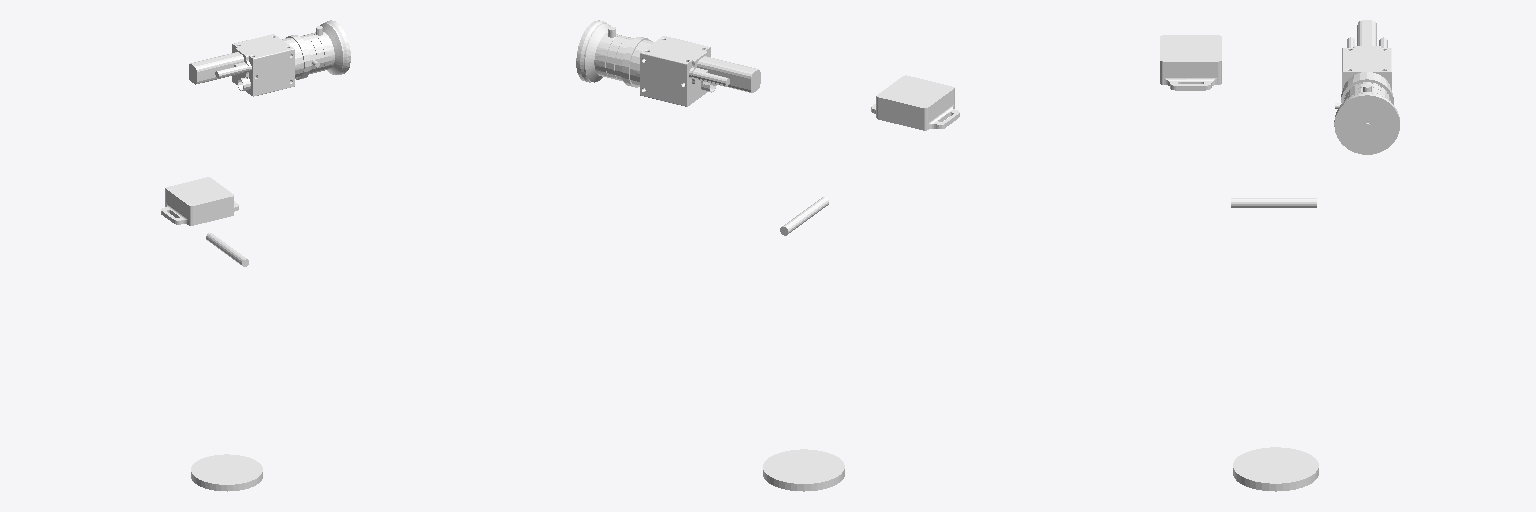
URDF robot description (hero_description):
<?xml version="1.0" encoding="utf-8"?>
<!-- This URDF was automatically created by SolidWorks to URDF Exporter! Originally created by [author] ([email redacted]) 
     Commit Version: 1.6.0-4-g7f85cfe  Build Version: 1.6.7995.38578
     For more information, please see http://wiki.ros.org/sw_urdf_exporter -->
<robot
  name="hero_description">
  <link
    name="base_link">
    <inertial>
      <origin
        xyz="2.7756E-16 -1.0408E-17 -0.0025"
        rpy="0 0 0" />
      <mass
        value="0.0098175" />
      <inertia
        ixx="1.5544E-06"
        ixy="1.7922E-24"
        ixz="8.8233E-24"
        iyy="1.5544E-06"
        iyz="3.4466E-26"
        izz="3.068E-06" />
    </inertial>
    <visual>
      <origin
        xyz="0 0 0"
        rpy="0 0 0" />
      <geometry>
        <mesh
          filename="package://hero_description/meshes/base_link.STL" />
      </geometry>
      <material
        name="">
        <color
          rgba="1 1 1 1" />
      </material>
    </visual>
    <collision>
      <origin
        xyz="0 0 0"
        rpy="0 0 0" />
      <geometry>
        <mesh
          filename="package://hero_description/meshes/base_link.STL" />
      </geometry>
    </collision>
  </link>
  <link
    name="yaw_link">
    <inertial>
      <origin
        xyz="-0.0051488 -0.031475 0.045253"
        rpy="0 0 0" />
      <mass
        value="0.93174" />
      <inertia
        ixx="0.001031"
        ixy="-4.9461E-07"
        ixz="8.554E-05"
        iyy="0.0011551"
        iyz="-2.2638E-07"
        izz="0.00081818" />
    </inertial>
    <visual>
      <origin
        xyz="0 0 0"
        rpy="0 0 0" />
      <geometry>
        <mesh
          filename="package://hero_description/meshes/yaw_link.STL" />
      </geometry>
      <material
        name="">
        <color
          rgba="0.75294 0.75294 0.75294 1" />
      </material>
    </visual>
    <collision>
      <origin
        xyz="0 0 0"
        rpy="0 0 0" />
      <geometry>
        <mesh
          filename="package://hero_description/meshes/yaw_link.STL" />
      </geometry>
    </collision>
  </link>
  <joint
    name="yaw_joint"
    type="continuous">
    <origin
      xyz="0 0 0"
      rpy="0 0 0" />
    <parent
      link="base_link" />
    <child
      link="yaw_link" />
    <axis
      xyz="0 0 1" />
  </joint>
  <link
    name="pitch_link">
    <inertial>
      <origin
        xyz="0.0034066 -0.001299 0.03678"
        rpy="0 0 0" />
      <mass
        value="1.2416" />
      <inertia
        ixx="0.0011211"
        ixy="-1.2138E-06"
        ixz="-0.00010276"
        iyy="0.0011238"
        iyz="-4.8565E-07"
        izz="0.001474" />
    </inertial>
    <visual>
      <origin
        xyz="0 0 0"
        rpy="0 0 0" />
      <geometry>
        <mesh
          filename="package://hero_description/meshes/pitch_link.STL" />
      </geometry>
      <material
        name="">
        <color
          rgba="1 1 1 1" />
      </material>
    </visual>
    <collision>
      <origin
        xyz="0 0 0"
        rpy="0 0 0" />
      <geometry>
        <mesh
          filename="package://hero_description/meshes/pitch_link.STL" />
      </geometry>
    </collision>
  </link>
  <joint
    name="pitch_joint"
    type="revolute">
    <origin
      xyz="0 0 0.168"
      rpy="0 0 0" />
    <parent
      link="yaw_link" />
    <child
      link="pitch_link" />
    <axis
      xyz="0 -1 0" />
    <limit
      lower="-0.5"
      upper="0.5"
      effort="0"
      velocity="0" />
  </joint>
  <link
    name="imu_link">
    <inertial>
      <origin
        xyz="1.3832E-08 -1.3393E-08 -0.0077319"
        rpy="0 0 0" />
      <mass
        value="0.020179" />
      <inertia
        ixx="2.5208E-06"
        ixy="3.9029E-09"
        ixz="1.4638E-12"
        iyy="2.8593E-06"
        iyz="-8.0874E-13"
        izz="4.5984E-06" />
    </inertial>
    <visual>
      <origin
        xyz="0 0 0"
        rpy="0 0 0" />
      <geometry>
        <mesh
          filename="package://hero_description/meshes/imu_link.STL" />
      </geometry>
      <material
        name="">
        <color
          rgba="1 1 1 1" />
      </material>
    </visual>
    <collision>
      <origin
        xyz="0 0 0"
        rpy="0 0 0" />
      <geometry>
        <mesh
          filename="package://hero_description/meshes/imu_link.STL" />
      </geometry>
    </collision>
  </link>
  <joint
    name="imu_joint"
    type="fixed">
    <origin
      xyz="-0.0501 -0.04935 0.07571"
      rpy="0 0 0" />
    <parent
      link="pitch_link" />
    <child
      link="imu_link" />
    <axis
      xyz="0 0 0" />
  </joint>
  <link
    name="camera_link">
    <inertial>
      <origin
        xyz="-0.044498 -2.6789E-05 0.00073584"
        rpy="0 0 0" />
      <mass
        value="0.064885" />
      <inertia
        ixx="7.9965E-06"
        ixy="-3.1555E-08"
        ixz="2.2346E-06"
        iyy="5.4721E-05"
        iyz="-7.2542E-09"
        izz="5.4499E-05" />
    </inertial>
    <visual>
      <origin
        xyz="0 0 0"
        rpy="0 0 0" />
      <geometry>
        <mesh
          filename="package://hero_description/meshes/camera_link.STL" />
      </geometry>
      <material
        name="">
        <color
          rgba="1 1 1 1" />
      </material>
    </visual>
    <collision>
      <origin
        xyz="0 0 0"
        rpy="0 0 0" />
      <geometry>
        <mesh
          filename="package://hero_description/meshes/camera_link.STL" />
      </geometry>
    </collision>
  </link>
  <joint
    name="camera_joint"
    type="fixed">
    <origin
      xyz="0.11853 0.053 0.10525"
      rpy="0 0 0" />
    <parent
      link="pitch_link" />
    <child
      link="camera_link" />
    <axis
      xyz="0 0 0" />
  </joint>
  <link
    name="camera_optical_link">
    <inertial>
      <origin
        xyz="1.0246E-12 -1.0246E-12 0.0005"
        rpy="0 0 0" />
      <mass
        value="7.0686E-06" />
      <inertia
        ixx="4.5651E-12"
        ixy="-2.4234E-28"
        ixz="-1.3388E-27"
        iyy="4.5651E-12"
        iyz="1.0046E-26"
        izz="7.9522E-12" />
    </inertial>
    <visual>
      <origin
        xyz="0 0 0"
        rpy="0 0 0" />
      <geometry>
        <mesh
          filename="package://hero_description/meshes/camera_optical_link.STL" />
      </geometry>
      <material
        name="">
        <color
          rgba="1 1 1 1" />
      </material>
    </visual>
    <collision>
      <origin
        xyz="0 0 0"
        rpy="0 0 0" />
      <geometry>
        <mesh
          filename="package://hero_description/meshes/camera_optical_link.STL" />
      </geometry>
    </collision>
  </link>
  <joint
    name="camera_optical_joint"
    type="fixed">
    <origin
      xyz="0 0 0"
      rpy="-1.5708 0 -1.5708" />
    <parent
      link="camera_link" />
    <child
      link="camera_optical_link" />
    <axis
      xyz="0 0 0" />
  </joint>
  <link
    name="gimbal_odom">
    <inertial>
      <origin
        xyz="-1.8319E-15 -0.001 -1.6376E-15"
        rpy="0 0 0" />
      <mass
        value="0.0014137" />
      <inertia
        ixx="2.9771E-07"
        ixy="7.8458E-24"
        ixz="2.4772E-25"
        iyy="6.3617E-09"
        iyz="-3.8523E-23"
        izz="2.9771E-07" />
    </inertial>
    <visual>
      <origin
        xyz="0 0 0"
        rpy="0 0 0" />
      <geometry>
        <mesh
          filename="package://hero_description/meshes/odom_link.STL" />
      </geometry>
      <material
        name="">
        <color
          rgba="1 1 1 1" />
      </material>
    </visual>
    <collision>
      <origin
        xyz="0 0 0"
        rpy="0 0 0" />
      <geometry>
        <mesh
          filename="package://hero_description/meshes/odom_link.STL" />
      </geometry>
    </collision>
  </link>
  <joint
    name="odom_joint"
    type="fixed">
    <origin
      xyz="0 0 0.168"
      rpy="0 0 0" />
    <parent
      link="base_link" />
    <child
      link="gimbal_odom" />
    <axis
      xyz="0 0 0" />
  </joint>
</robot>

--- Render facts (derived) ---
3 views of the same robot in one strip: view 1: azimuth 30°, elevation 25°; view 2: azimuth 150°, elevation 25°; view 3: azimuth 270°, elevation 25° (orthographic).
Model hero_description with 7 links and 6 joints (1 revolute, 1 continuous, 4 fixed), rooted at base_link, posed every joint at zero.
Visible links, largest first — view 1: camera_link, imu_link, base_link; view 2: camera_link, imu_link, base_link, gimbal_odom; view 3: camera_link, imu_link, base_link, gimbal_odom.
Boxes of the visible links, x1=… form: camera_link: x1=189, y1=20, x2=350, y2=96; imu_link: x1=161, y1=177, x2=238, y2=225; base_link: x1=191, y1=454, x2=262, y2=491; camera_link: x1=576, y1=20, x2=760, y2=106; imu_link: x1=871, y1=75, x2=959, y2=130; base_link: x1=763, y1=449, x2=844, y2=491; gimbal_odom: x1=780, y1=197, x2=828, y2=235; camera_link: x1=1334, y1=20, x2=1399, y2=154; imu_link: x1=1160, y1=35, x2=1221, y2=90; base_link: x1=1233, y1=447, x2=1318, y2=491; gimbal_odom: x1=1231, y1=198, x2=1316, y2=207.
Bounding box of the posed robot: 0.1953 × 0.1395 × 0.2974 m (x, y, z).
5 mesh visuals loaded from 7 distinct referenced files (5 binary STL); not drawn: 2 (reference not matched to a file when rendering).
